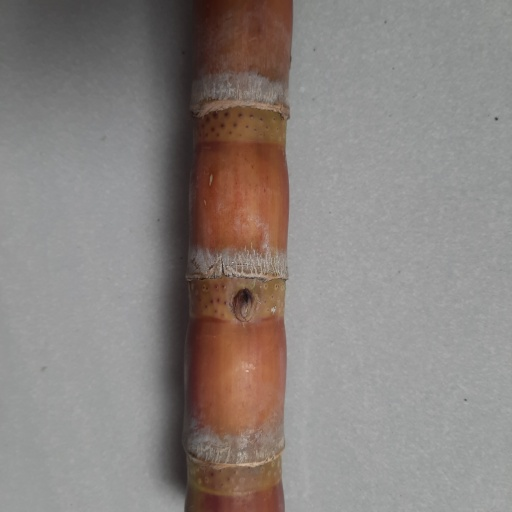Bud: (232, 288, 256, 324)
